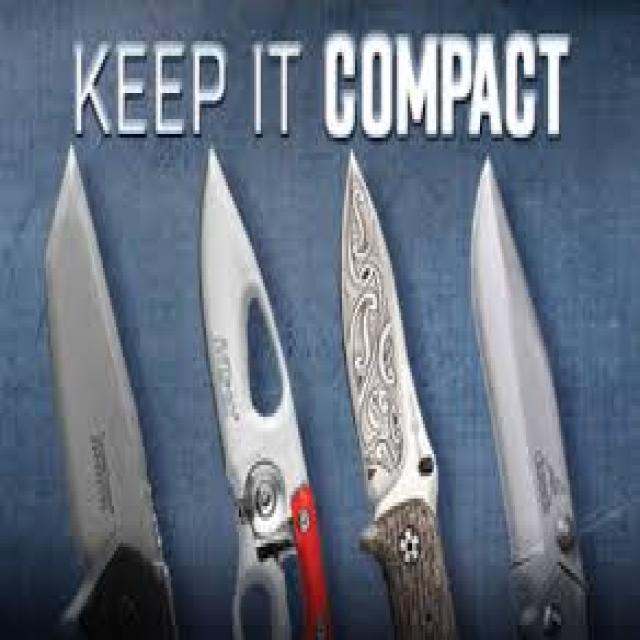knives: (24, 131, 196, 589), (174, 137, 326, 544), (460, 151, 593, 549), (316, 150, 446, 534)
